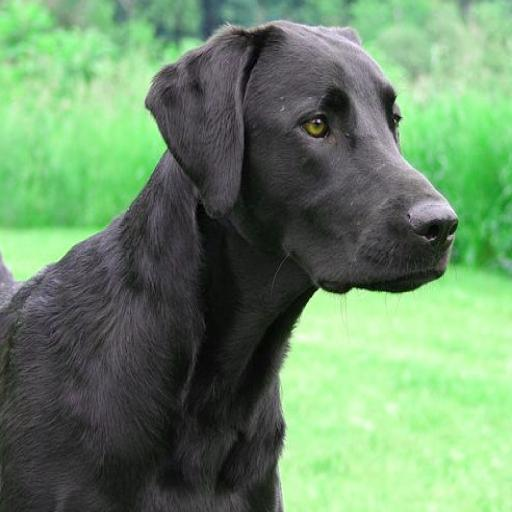dog_face: (171, 6, 449, 301)
